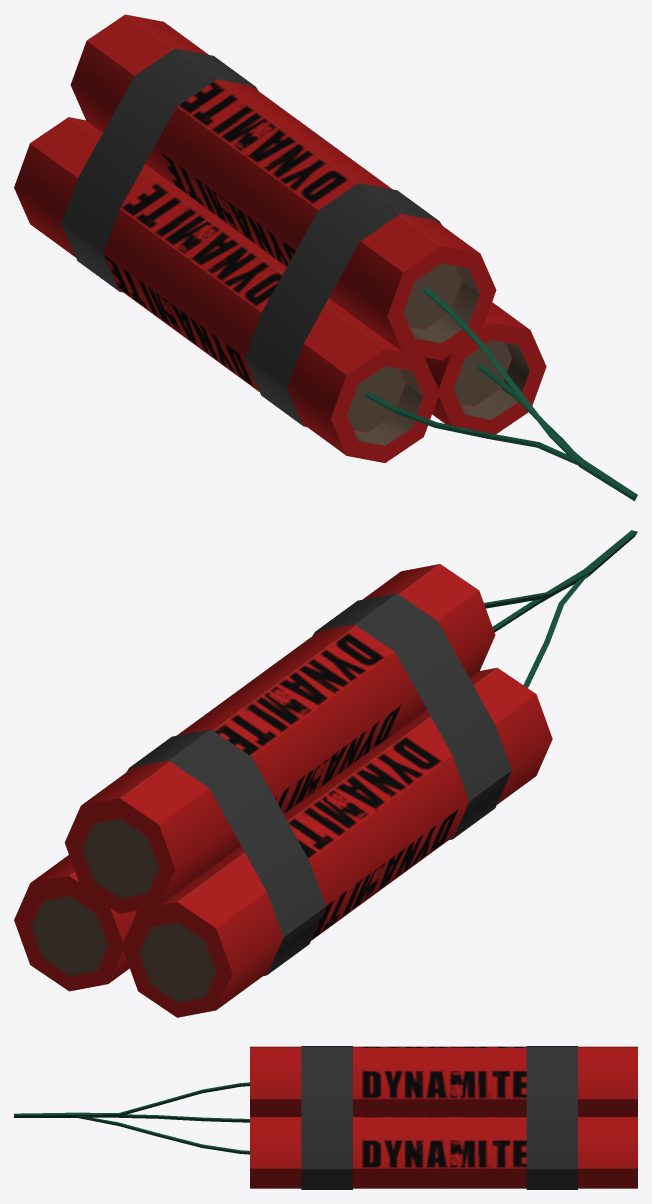
Rendered from Dynamite.FBX.
3 renders of one model, top to bottom at view 1: azimuth 30°, elevation 25°; view 2: azimuth 150°, elevation 25°; view 3: azimuth 270°, elevation 25°, orthographic. The views are drawn at different scales.
Parts seen in each view (by area): view 1: Dynamite; view 2: Dynamite; view 3: Dynamite.
Boxes of the visible parts, x1=… form: Dynamite: x1=14, y1=14, x2=637, y2=501; Dynamite: x1=14, y1=530, x2=637, y2=1017; Dynamite: x1=14, y1=1046, x2=637, y2=1189.
Bounding box in the file's own units: 89.84 × 80.76 × 361.
Materials: 1 (1 with a texture image).
